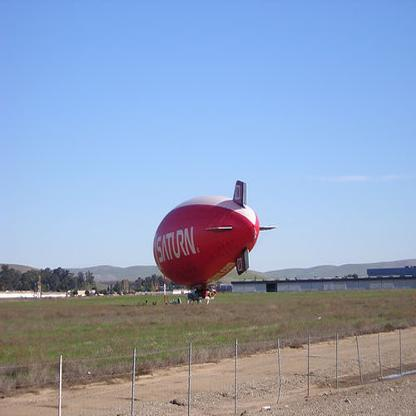Airship: (151, 174, 279, 306)
